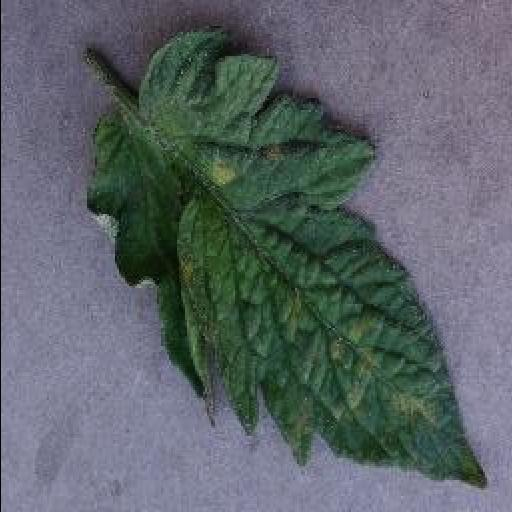disease_tomato: (84, 24, 488, 488)
